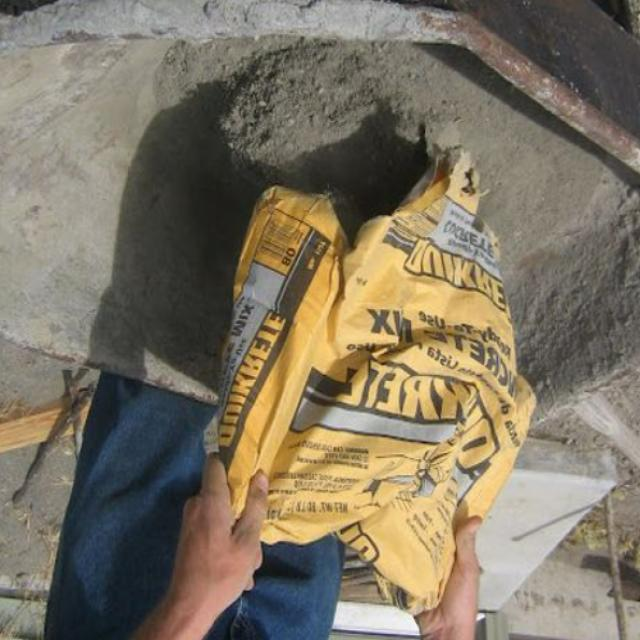KantongSemen: (206, 143, 538, 618)
